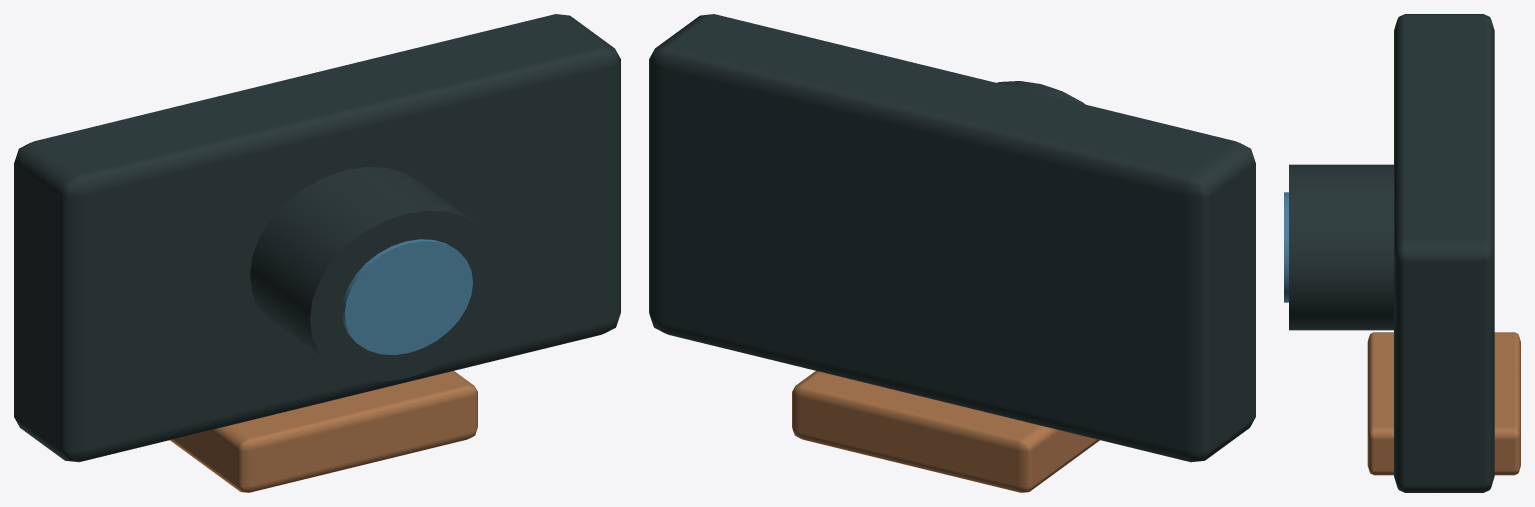
The model's file is wp-webcam.glb.
3 renders of one model, left to right at view 1: azimuth 30°, elevation 25°; view 2: azimuth 150°, elevation 25°; view 3: azimuth 270°, elevation 25°, orthographic. The views are drawn at different scales.
Parts seen in each view (by area): view 1: wp-webcam; view 2: wp-webcam; view 3: wp-webcam.
Boxes of the visible parts, <box> form: wp-webcam: <box>14,14,620,492</box>; wp-webcam: <box>649,14,1255,492</box>; wp-webcam: <box>1284,14,1520,492</box>.
Size of the model in its own units: 0.12 by 0.07 by 0.05.
